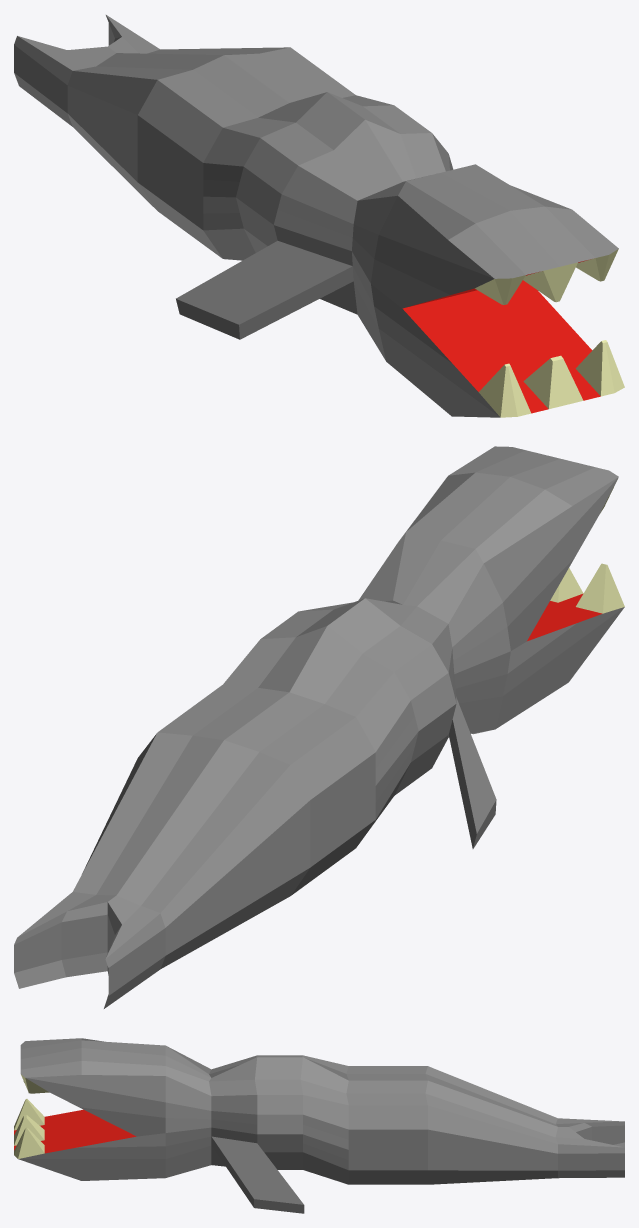
File: LeapardSeal.fbx
The picture shows the model from 3 angles, top to bottom: view 1: azimuth 30°, elevation 25°; view 2: azimuth 150°, elevation 25°; view 3: azimuth 270°, elevation 25°; orthographic projection. The views are drawn at different scales.
Parts seen in each view (by area): view 1: Cube; view 2: Cube; view 3: Cube.
Part boxes in pixels (left/top/right/bottom): Cube: left=14, top=15, right=624, bottom=417; Cube: left=14, top=446, right=624, bottom=1008; Cube: left=14, top=1038, right=624, bottom=1213.
Bounding box in the file's own units: 230 × 148 × 667.
